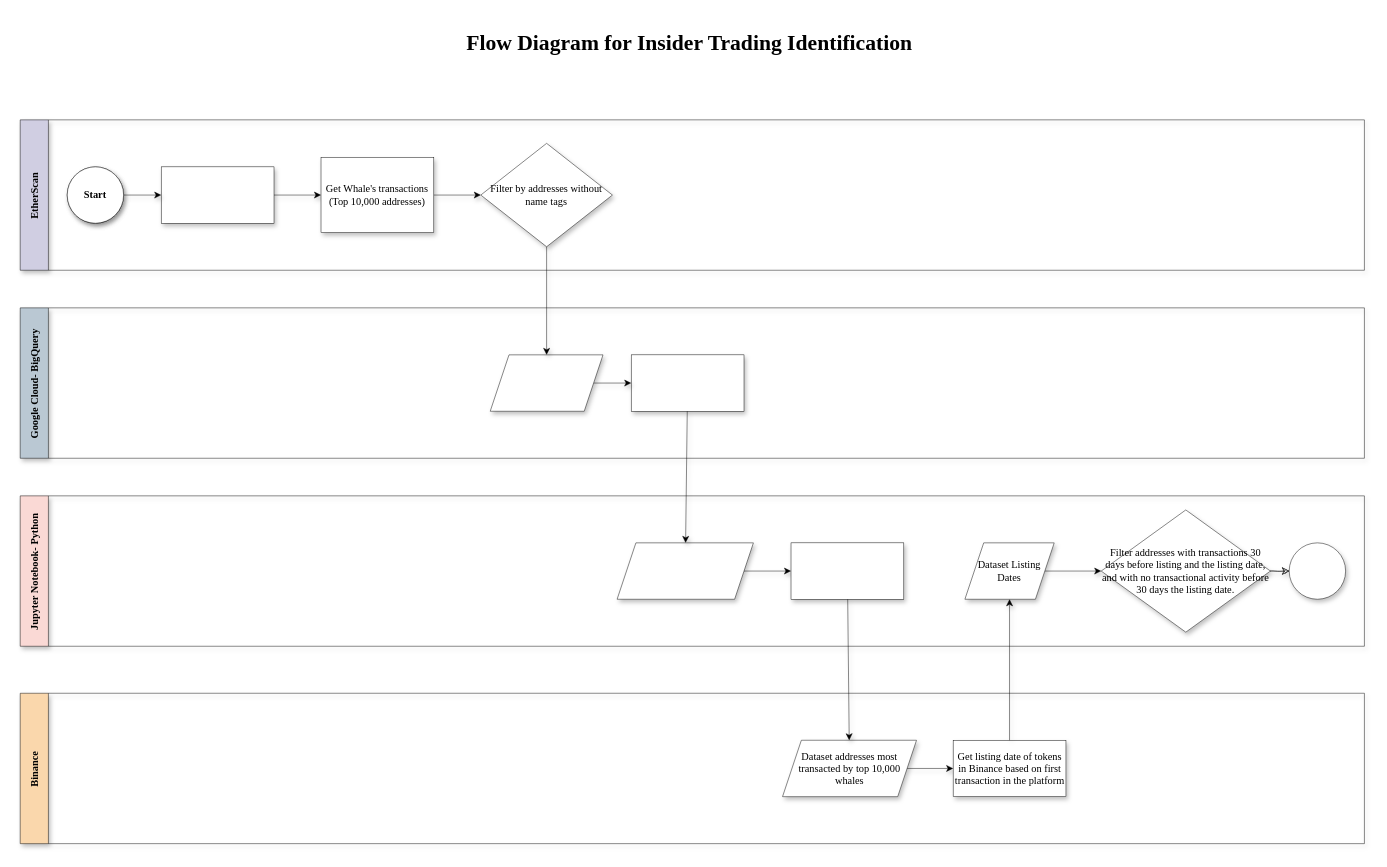
Some shapes in this 1387 by 867 pixel diagram are drawn without their labels. Here are the shapes that lost their labels. From the top down, the centre of each, then its label:
At point 218,196: "Connect with crawler to etherscan.io website".
At point 547,384: "Dataset with addresses without name tags".
At point 688,384: "Get transactional information of selected addresses".
At point 686,572: "Historical transactional dataset of top 10,000 whales".
At point 848,572: "Create graph network and get nodes with highest IN degrees by unique count".
At point 1318,572: "End".
